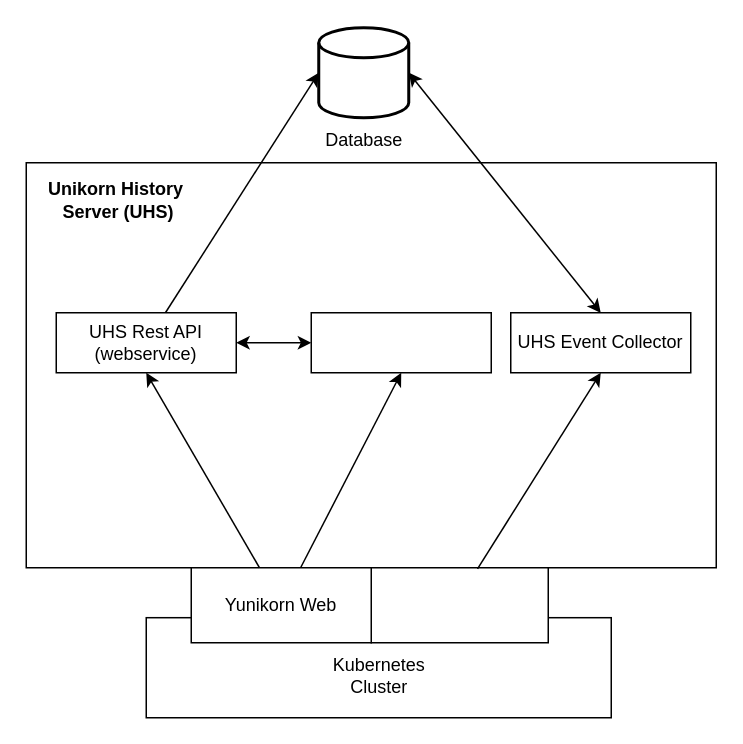
The diagram is 743 pixels wide and 744 high, and some of its shapes have lost their labels. The shapes that lost their labels are listed below. From the top down, each one's centre as x and y in pixels, then its label:
pixel 400 342: UHS Web Component
pixel 459 604: Yunikorn API
